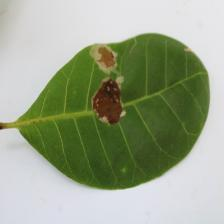leaf miner: (0, 31, 211, 190), (91, 76, 125, 126)
